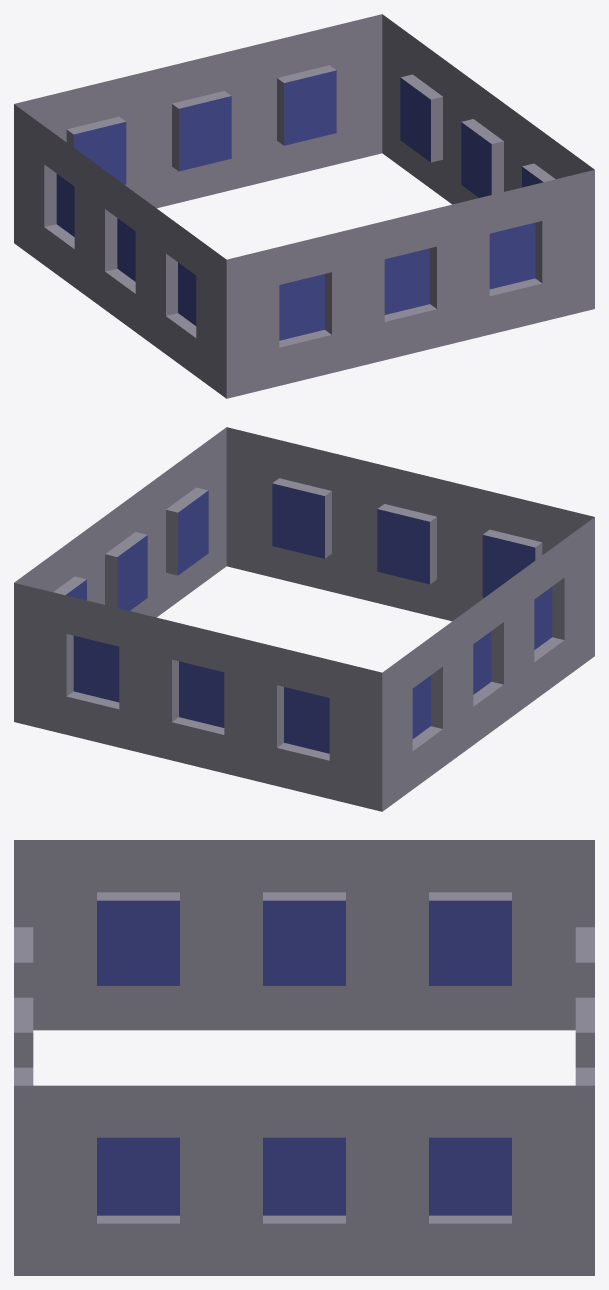
Rendered from etage.obj.
3 renders of one model, top to bottom at view 1: azimuth 30°, elevation 25°; view 2: azimuth 150°, elevation 25°; view 3: azimuth 270°, elevation 25°, orthographic. The views are drawn at different scales.
Visible parts, largest first — view 1: Cube, Cube.001; view 2: Cube, Cube.001; view 3: Cube, Cube.001.
Boxes of the visible parts, box(x1,y1,x2,y2) form: Cube: box(14, 14, 594, 398); Cube.001: box(56, 70, 543, 340); Cube: box(14, 427, 594, 811); Cube.001: box(65, 483, 552, 753); Cube: box(14, 840, 594, 1275); Cube.001: box(97, 900, 511, 1215).
Size of the model in its own units: 11.1 by 4.01 by 11.1.
